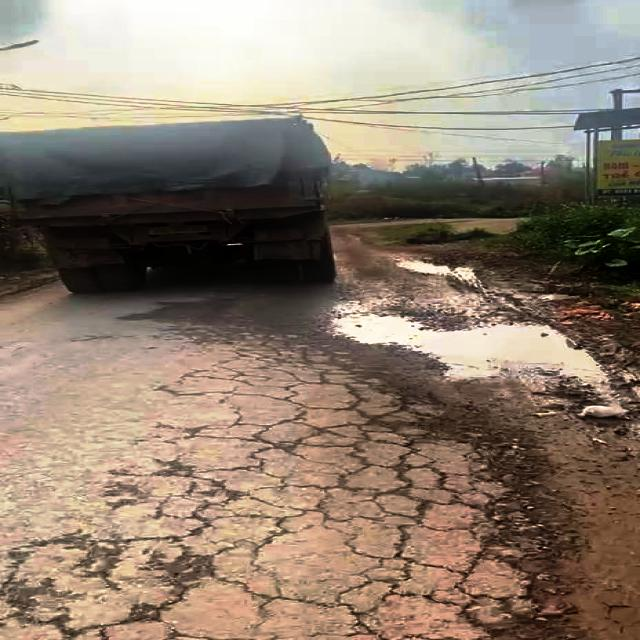pothole: (328, 305, 599, 380)
